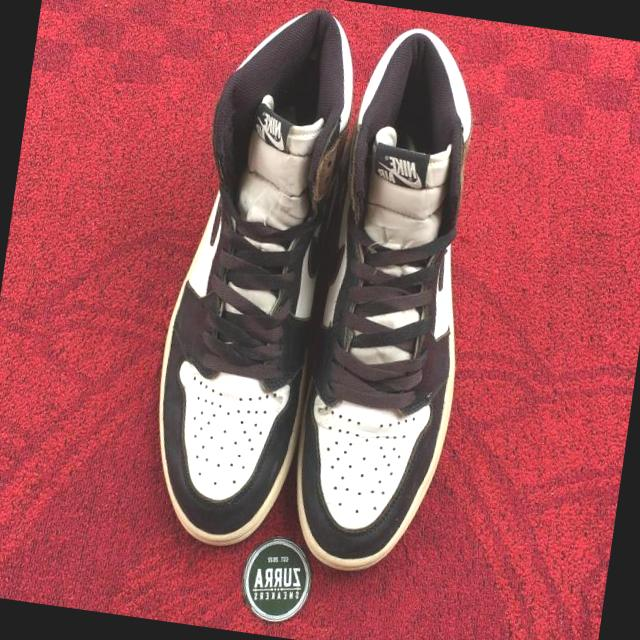nike_original_jordan: (130, 0, 363, 569), (282, 9, 508, 580)
